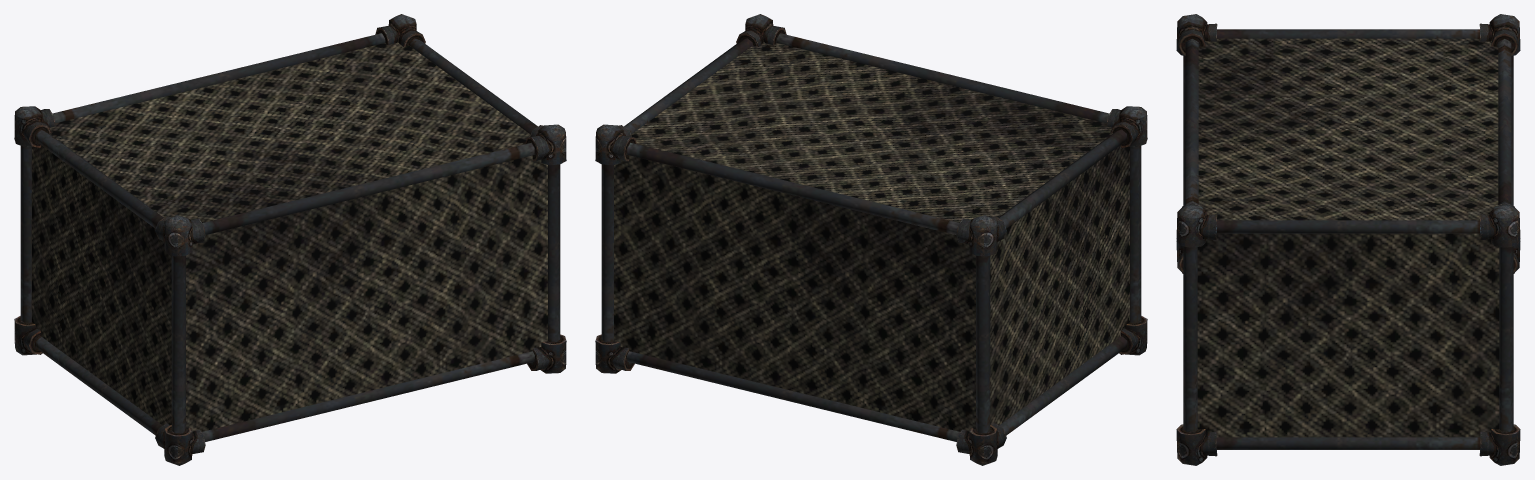
Rendered from rat_cage.dae.
The picture shows the model from 3 angles, left to right: view 1: azimuth 30°, elevation 25°; view 2: azimuth 150°, elevation 25°; view 3: azimuth 270°, elevation 25°; orthographic projection. The views are drawn at different scales.
Visible parts, largest first — view 1: cage; view 2: cage; view 3: cage.
Part boxes in pixels (bbox=[...]): cage: bbox=[14, 14, 566, 465]; cage: bbox=[595, 14, 1147, 465]; cage: bbox=[1176, 14, 1520, 465].
Size of the model in its own units: 0.5154 by 0.3051 by 0.3685.
